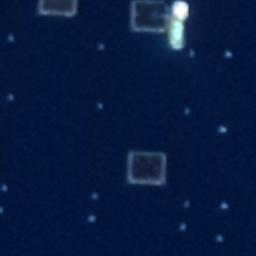square_cover: (123, 143, 171, 187), (125, 2, 175, 37), (35, 1, 85, 17)
